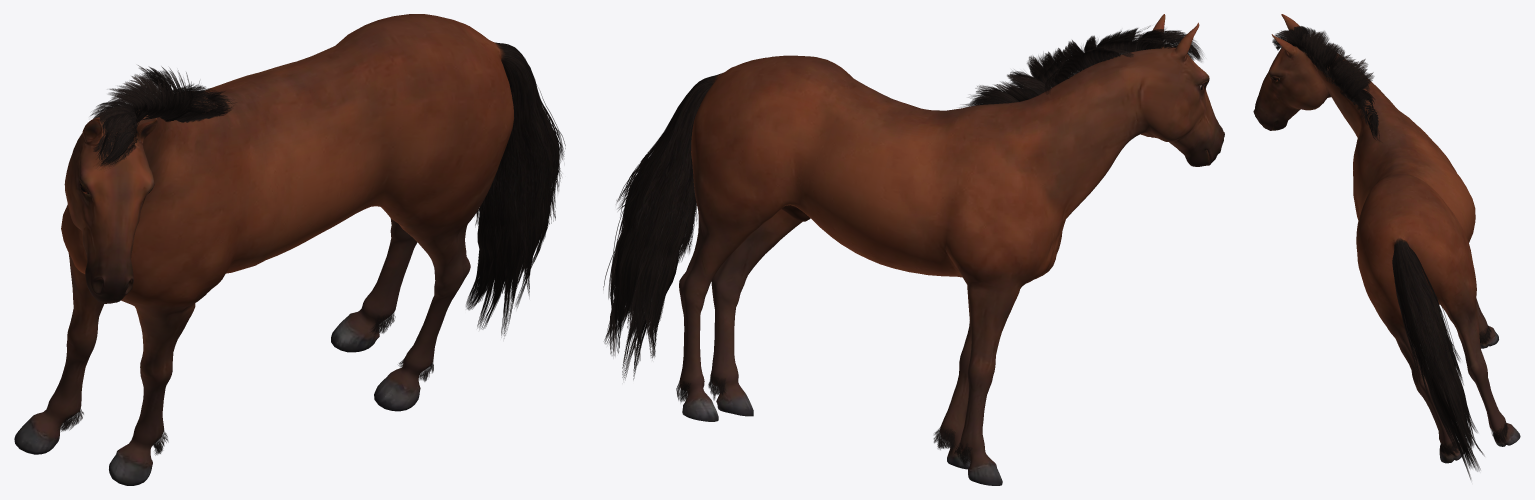
File: Horse_opt.glb
The picture shows the model from 3 angles, left to right: view 1: azimuth 30°, elevation 25°; view 2: azimuth 150°, elevation 25°; view 3: azimuth 270°, elevation 25°; orthographic projection. The views are drawn at different scales.
Visible parts, largest first — view 1: GeometryNode_7, GeometryNode_29; view 2: GeometryNode_7, GeometryNode_29; view 3: GeometryNode_7, GeometryNode_29.
Part boxes in pixels (x1,y1,x2,y2): GeometryNode_7: [14, 14, 513, 485]; GeometryNode_29: [58, 42, 565, 455]; GeometryNode_7: [679, 14, 1224, 485]; GeometryNode_29: [603, 25, 1203, 466]; GeometryNode_7: [1253, 14, 1520, 463]; GeometryNode_29: [1272, 26, 1508, 479].
Bounding box in the file's own units: 3.77 × 2.93 × 2.26.
2 materials, 2 textured.
